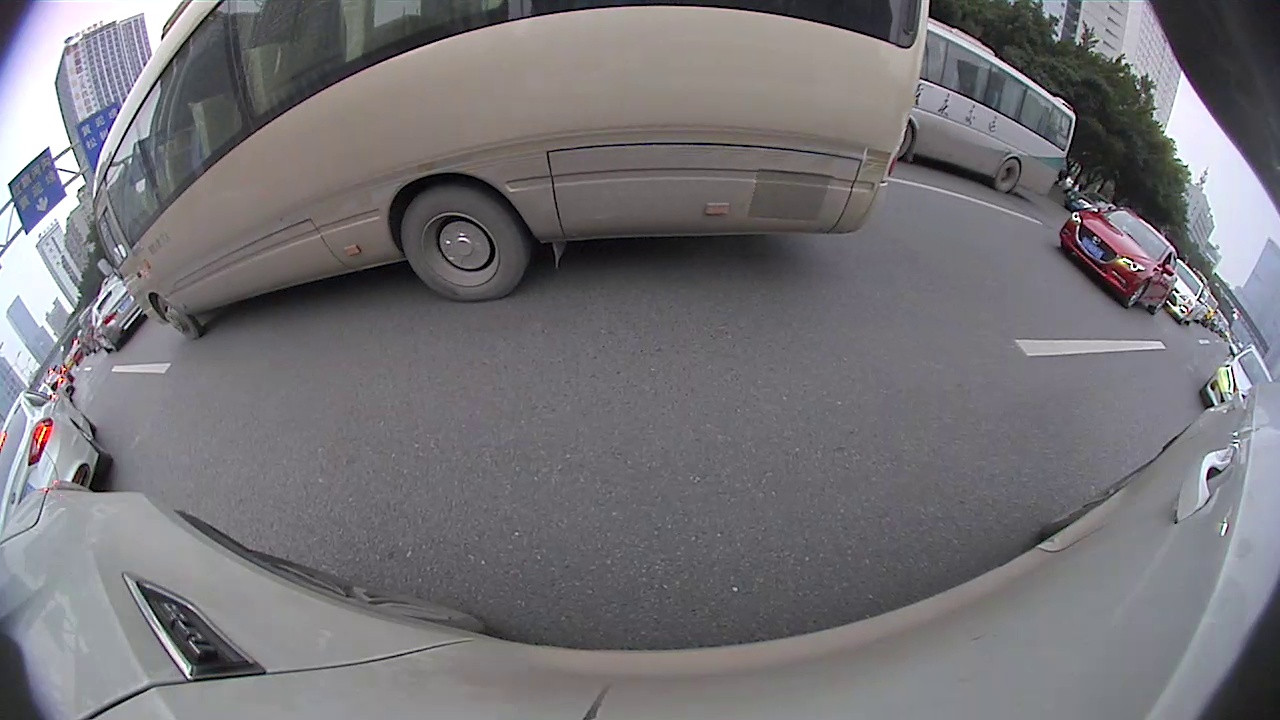bus: (88, 1, 928, 345), (897, 16, 1081, 210)
car: (3, 388, 116, 531), (1057, 202, 1180, 313), (1194, 340, 1277, 409), (87, 280, 144, 353), (1166, 256, 1211, 328), (1064, 184, 1117, 216)
front: (153, 294, 200, 338), (1125, 280, 1151, 308)
rear: (406, 191, 530, 301), (994, 158, 1020, 191)
